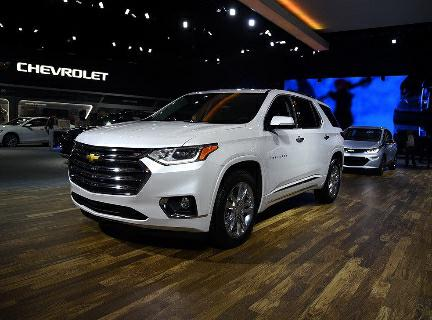雪佛兰-Traverse: (60, 69, 358, 254)
